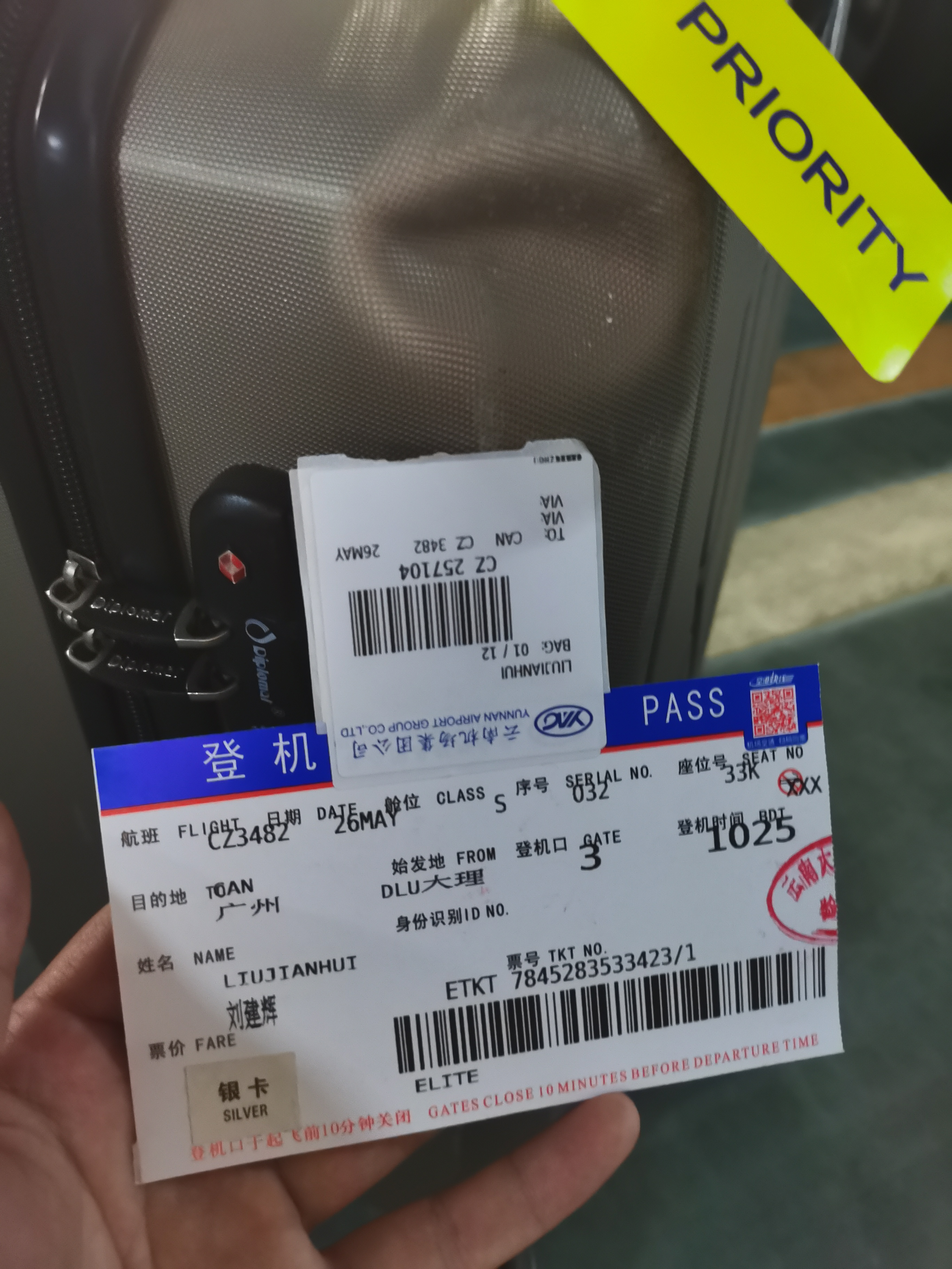rupture: (342, 128, 706, 412)
